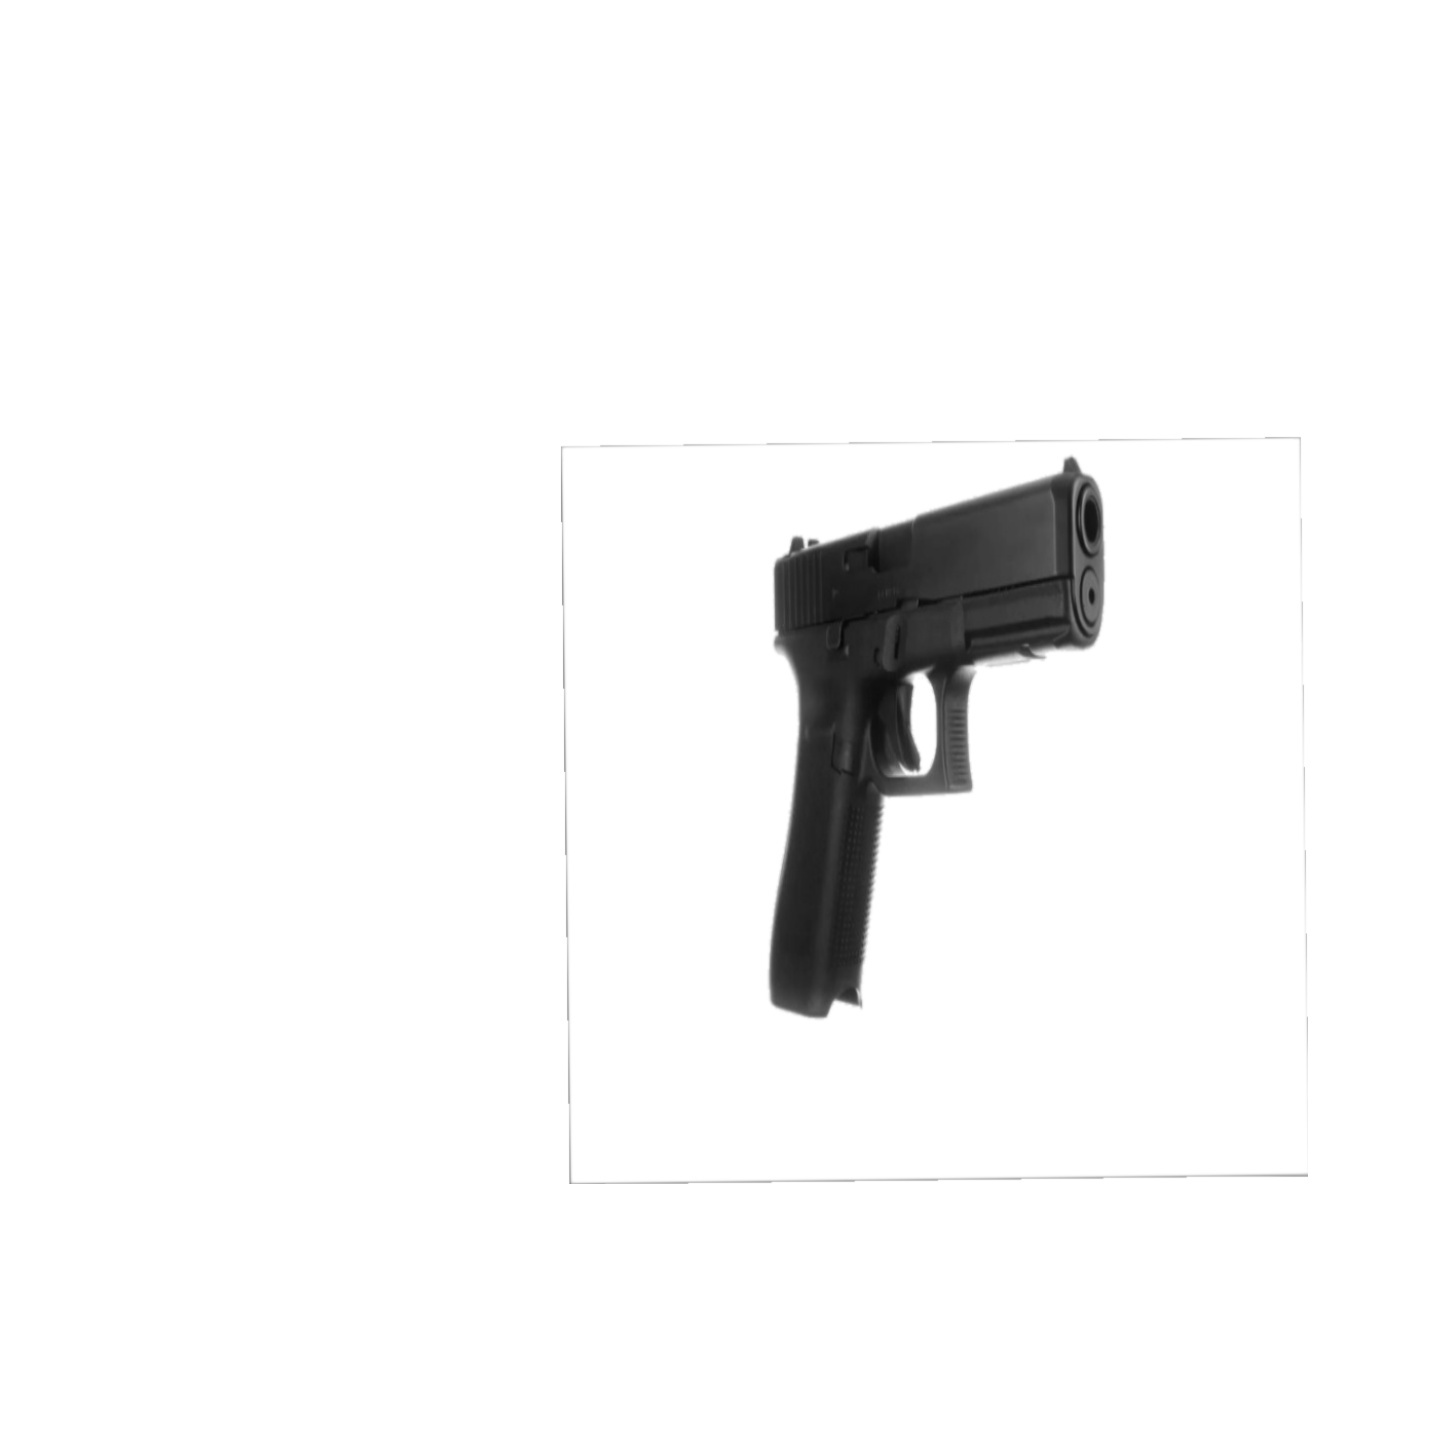gun: (747, 453, 1117, 1027)
